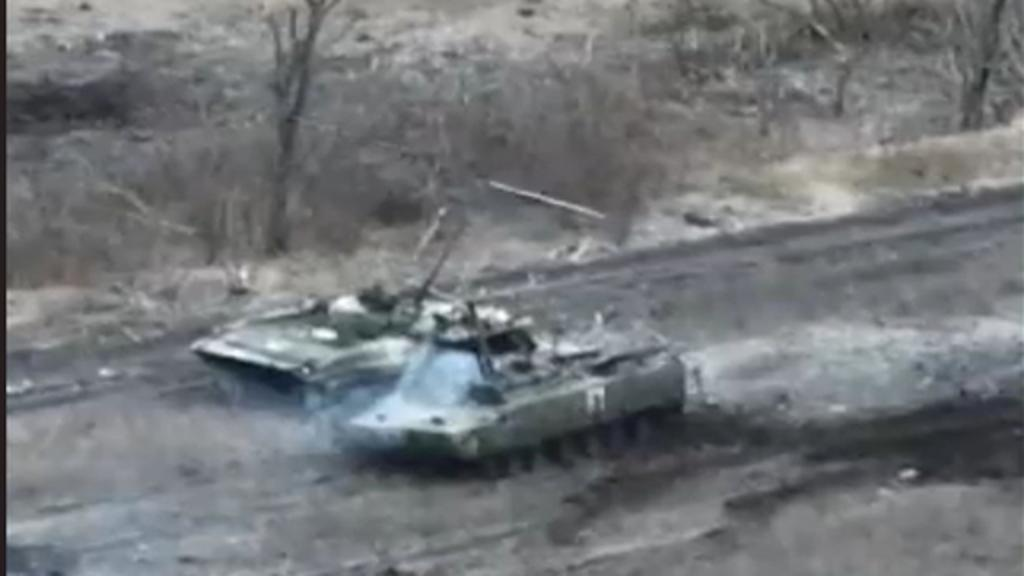APC-IFV: (328, 326, 698, 462), (208, 262, 534, 406)
